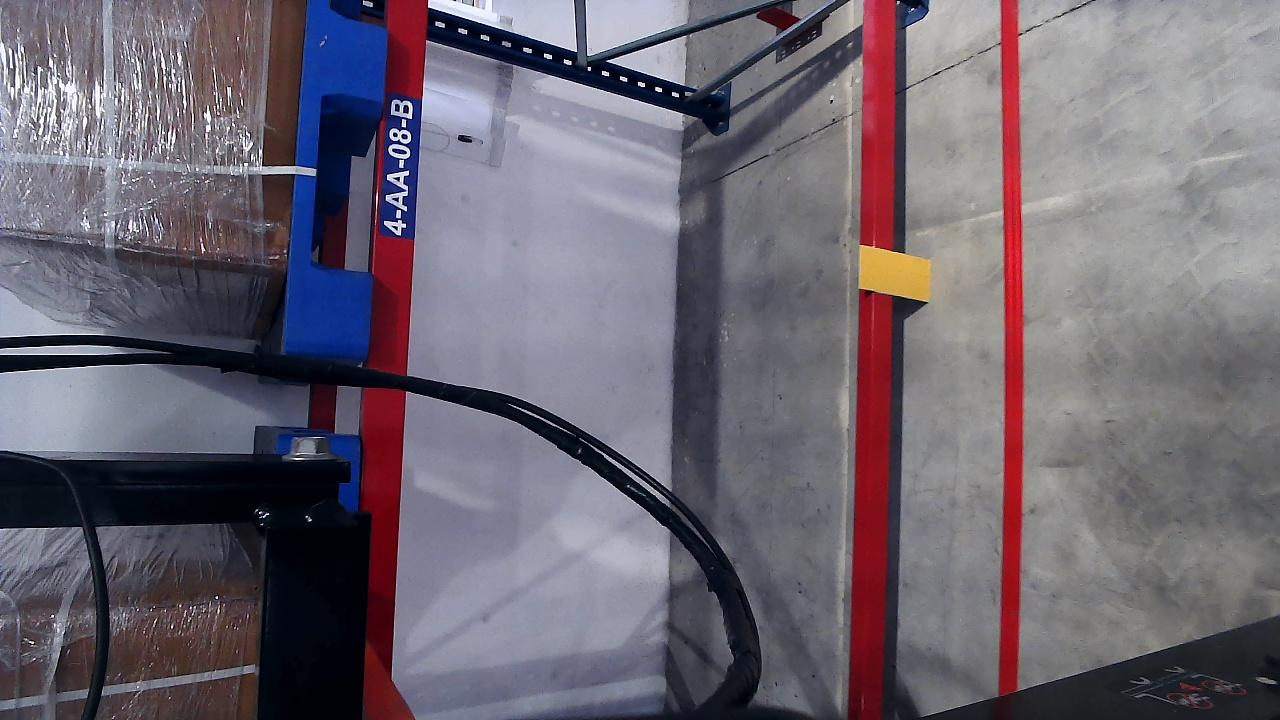h_rack: (851, 6, 902, 623), (375, 1, 413, 719)
orange_strip: (857, 245, 931, 301)
red_line: (996, 0, 1025, 605)
small_pallet: (279, 1, 395, 361)
